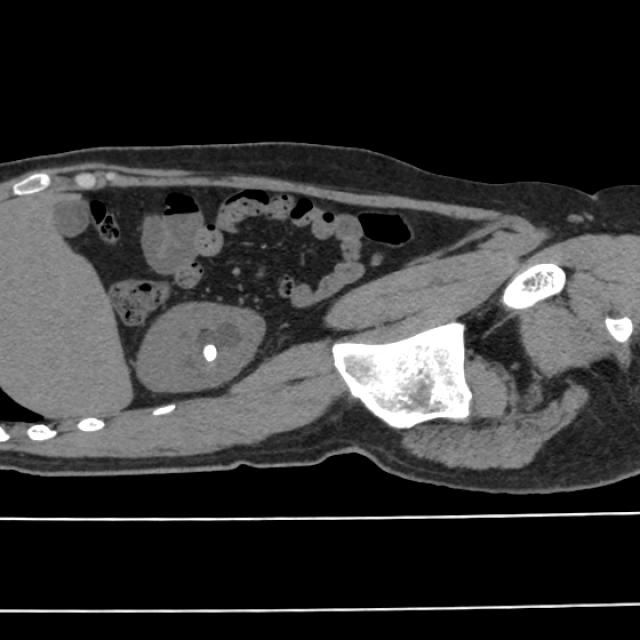kidney: (135, 296, 269, 396)
stone: (200, 343, 218, 360)
